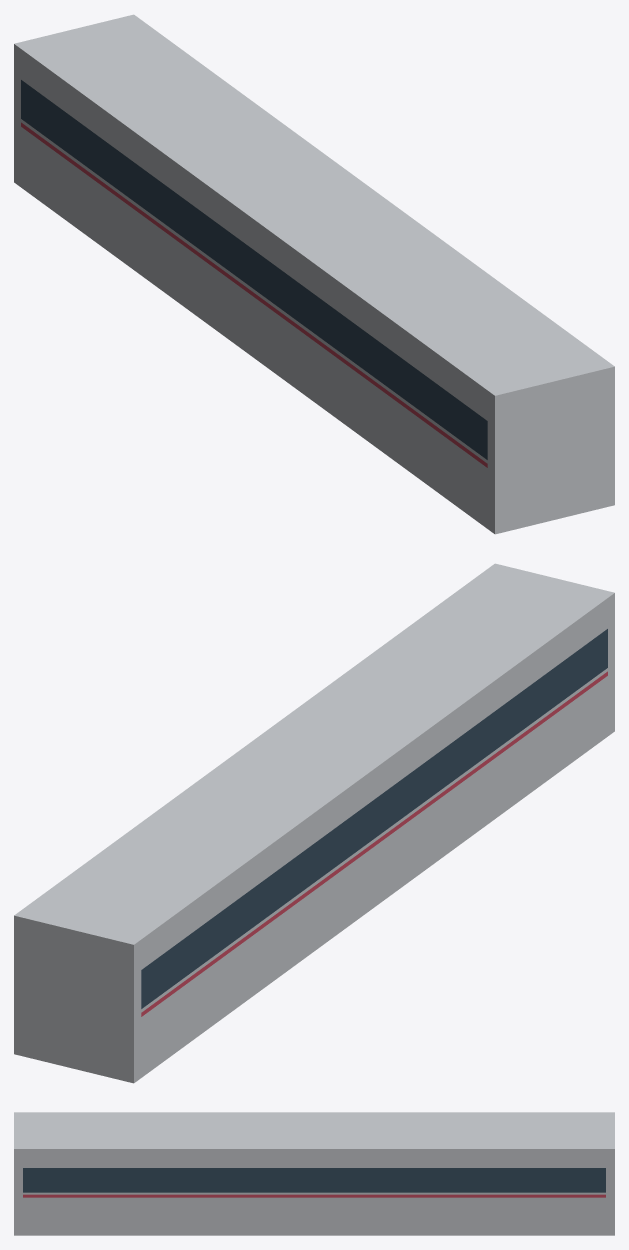
Rendered from middle_2_far.fbx.
3 renders of one model, top to bottom at view 1: azimuth 30°, elevation 25°; view 2: azimuth 150°, elevation 25°; view 3: azimuth 270°, elevation 25°, orthographic. The views are drawn at different scales.
Visible parts, largest first — view 1: 20_middle_2_far; view 2: 20_middle_2_far; view 3: 20_middle_2_far.
Boxes of the visible parts, x1,y1,x2,y2 form: 20_middle_2_far: (14,14,614,534); 20_middle_2_far: (14,563,614,1083); 20_middle_2_far: (14,1112,614,1235).
Size of the model in its own units: 2.89 by 3.18 by 20.
